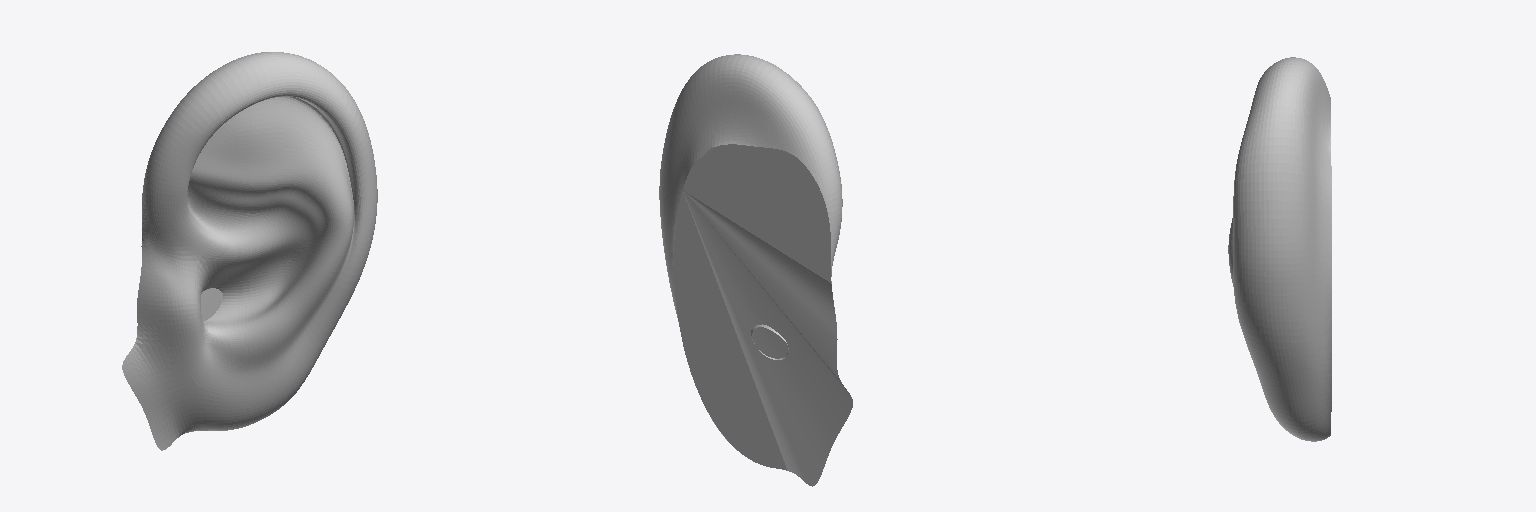
Rendered from ear2.obj.
The picture shows the model from 3 angles: view 1: azimuth 30°, elevation 25°; view 2: azimuth 150°, elevation 25°; view 3: azimuth 270°, elevation 25°; orthographic projection.
Visible parts, largest first — view 1: head; view 2: head; view 3: head.
Boxes of the visible parts, box(x1,y1,x2,y2) form: head: box(122, 52, 377, 450); head: box(659, 54, 852, 486); head: box(1228, 57, 1331, 441).
Size of the model in its own units: 165 by 282 by 67.29.